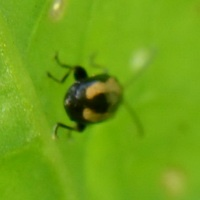insect: (47, 52, 143, 137)
